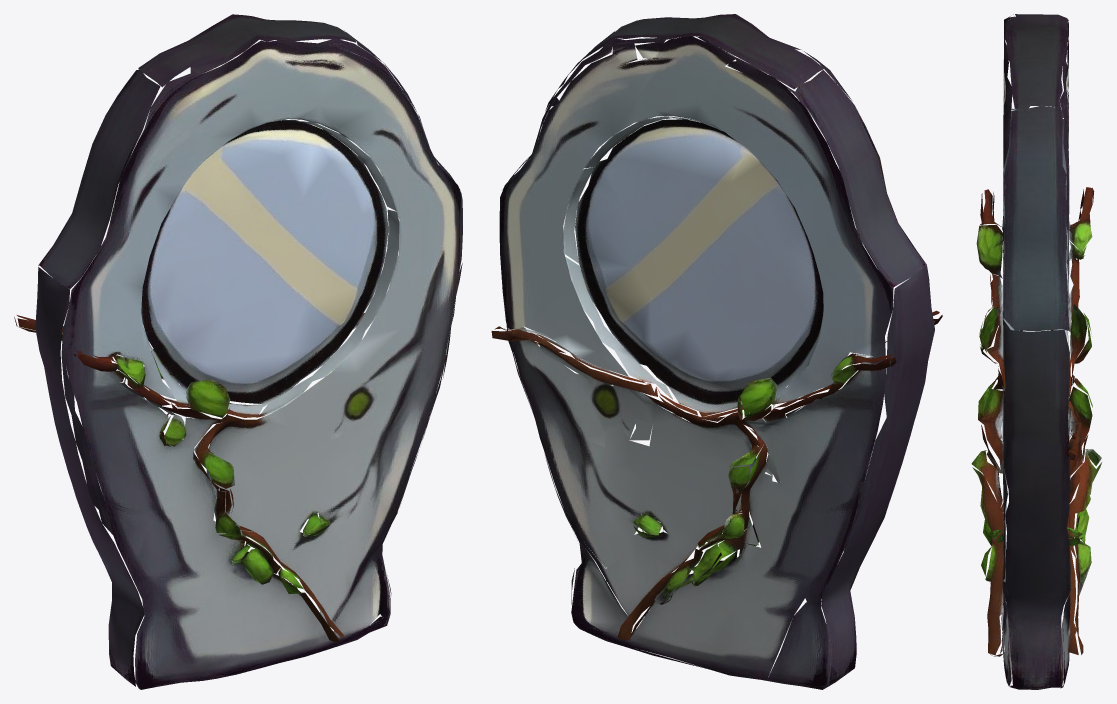
The model's file is ayna_tasi.glb.
3 views of the same model, side by side, from view 1: azimuth 30°, elevation 25°; view 2: azimuth 150°, elevation 25°; view 3: azimuth 270°, elevation 25° (orthographic). The views are drawn at different scales.
Parts seen in each view (by area): view 1: geometry_0; view 2: geometry_0; view 3: geometry_0.
Boxes of the visible parts, x1=… form: geometry_0: x1=14, y1=14, x2=462, y2=689; geometry_0: x1=491, y1=14, x2=942, y2=689; geometry_0: x1=971, y1=14, x2=1101, y2=689.
Size of the model in its own units: 0.6737 by 0.9887 by 0.1949.
1 material, 1 textured.
